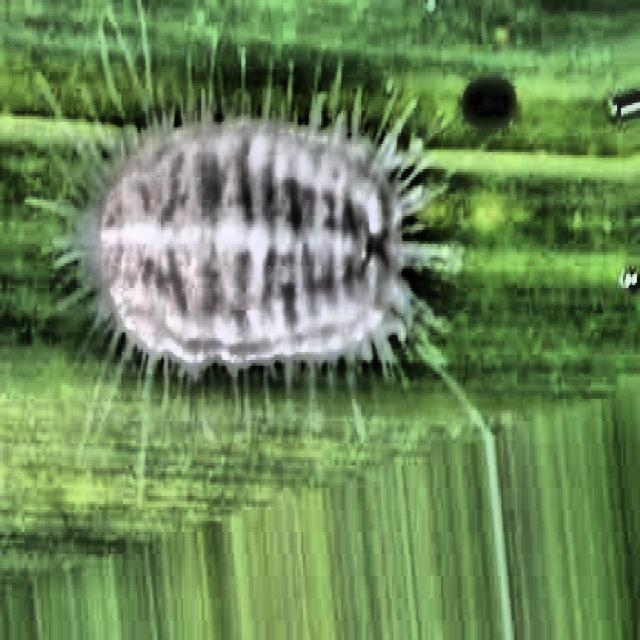Mealy-bug: (59, 53, 461, 416)
